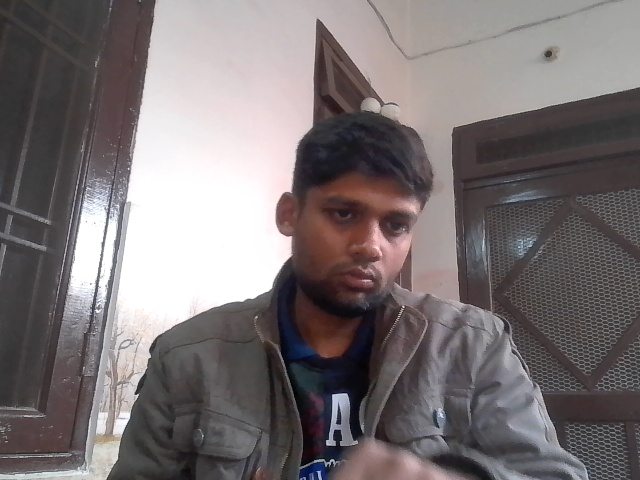Yes: (315, 414, 456, 480)
